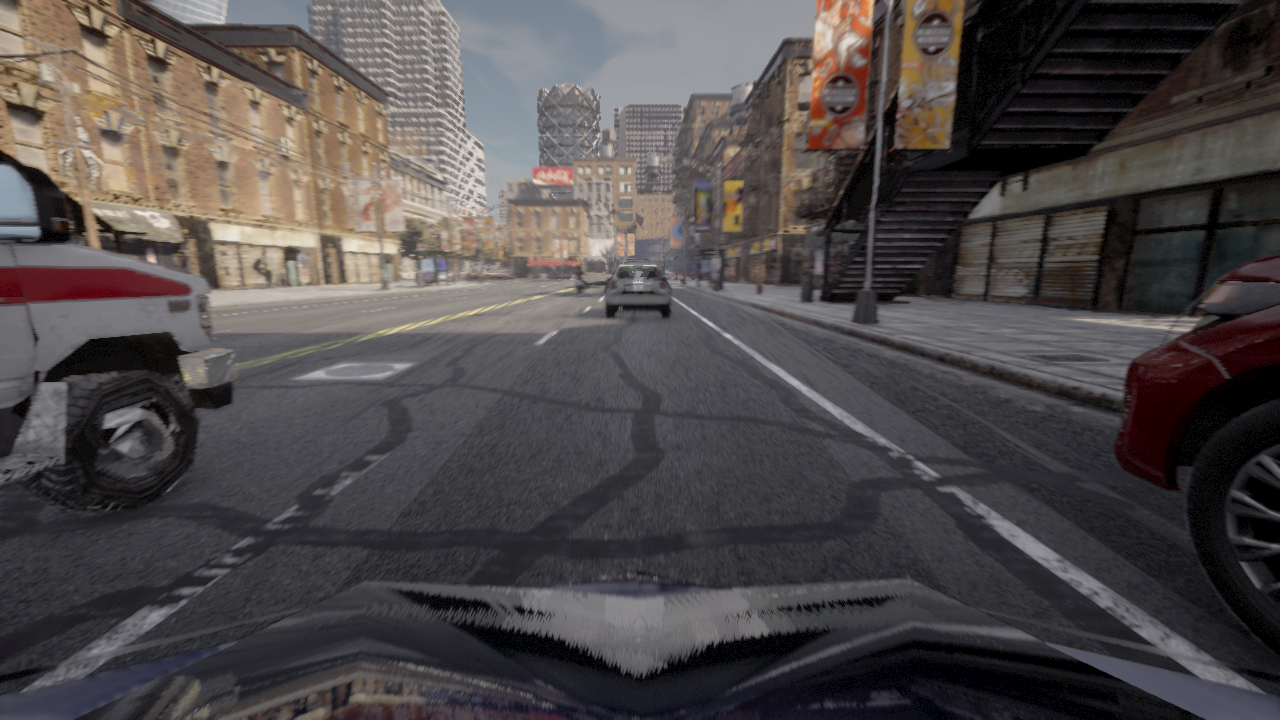cyclist: (0, 569, 1279, 719), (1114, 255, 1279, 656), (605, 264, 671, 316), (585, 257, 611, 287), (489, 273, 515, 280), (575, 276, 585, 293), (464, 272, 488, 279), (625, 260, 650, 263), (573, 275, 576, 279), (583, 275, 584, 279)
